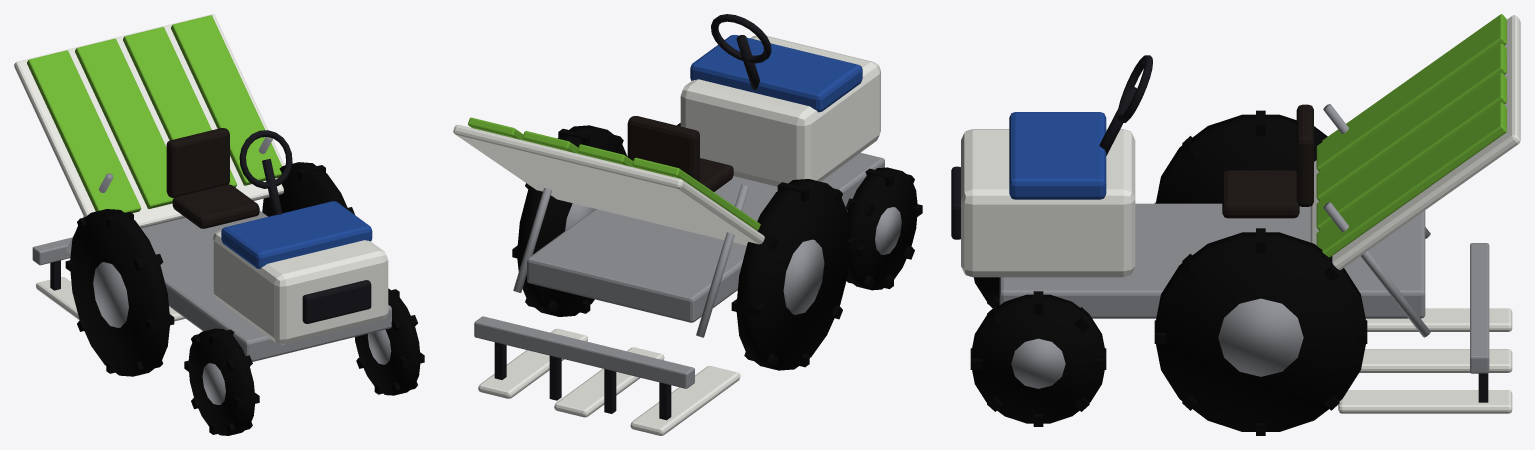
The model's file is transplanter.glb.
3 renders of one model, left to right at view 1: azimuth 30°, elevation 25°; view 2: azimuth 150°, elevation 25°; view 3: azimuth 270°, elevation 25°, orthographic. The views are drawn at different scales.
Visible parts, largest first — view 1: Cube.001, Cylinder.003, Cube, Cube.007, Cube.008, Cube.006, Cube.010, Cube.002, Cube.009, Cylinder.007, Cube.005, Cylinder.009 (+10 smaller); view 2: Cube, Cube.001, Cylinder.003, Cube.006, Cube.002, Cylinder.007, Cube.011, Cylinder.005, Cube.005, Cube.016, Cylinder.004, Cube.018 (+15 smaller); view 3: Cylinder.005, Cube.001, Cube, Cylinder.009, Cube.002, Cylinder.003, Cube.010, Cube.006, Cube.008, Cube.007, Cube.009, Cylinder.006 (+11 smaller).
Boxes of the visible parts, x1=… form: Cube.001: x1=213, y1=230, x2=388, y2=344; Cylinder.003: x1=70, y1=209, x2=169, y2=376; Cube: x1=141, y1=211, x2=391, y2=361; Cube.007: x1=27, y1=50, x2=141, y2=213; Cube.008: x1=75, y1=38, x2=173, y2=208; Cube.006: x1=14, y1=14, x2=284, y2=228; Cube.010: x1=171, y1=15, x2=282, y2=185; Cube.002: x1=221, y1=201, x2=372, y2=268; Cube.009: x1=123, y1=27, x2=236, y2=187; Cylinder.007: x1=188, y1=328, x2=254, y2=435; Cube.005: x1=166, y1=128, x2=229, y2=197; Cylinder.009: x1=354, y1=288, x2=420, y2=395; Cube: x1=527, y1=152, x2=884, y2=322; Cube.001: x1=680, y1=35, x2=880, y2=186; Cylinder.003: x1=736, y1=179, x2=850, y2=370; Cube.006: x1=453, y1=124, x2=764, y2=245; Cube.002: x1=690, y1=35, x2=862, y2=112; Cylinder.007: x1=847, y1=167, x2=917, y2=290; Cube.011: x1=474, y1=316, x2=694, y2=388; Cylinder.005: x1=517, y1=125, x2=627, y2=316; Cube.005: x1=627, y1=116, x2=699, y2=182; Cube.016: x1=630, y1=366, x2=740, y2=435; Cylinder.004: x1=783, y1=239, x2=824, y2=314; Cube.018: x1=478, y1=328, x2=587, y2=398; Cylinder.005: x1=1155, y1=232, x2=1366, y2=431; Cube.001: x1=961, y1=129, x2=1135, y2=277; Cube: x1=999, y1=203, x2=1425, y2=318; Cylinder.009: x1=971, y1=294, x2=1105, y2=423; Cube.002: x1=1009, y1=112, x2=1106, y2=199; Cylinder.003: x1=1155, y1=114, x2=1327, y2=203; Cube.010: x1=1316, y1=102, x2=1506, y2=257; Cube.006: x1=1310, y1=15, x2=1520, y2=269; Cube.008: x1=1316, y1=43, x2=1506, y2=201; Cube.007: x1=1316, y1=14, x2=1506, y2=171; Cube.009: x1=1316, y1=73, x2=1506, y2=230; Cylinder.006: x1=1218, y1=298, x2=1303, y2=376.
Size of the model in its own units: 1.62 by 1.77 by 2.94.
